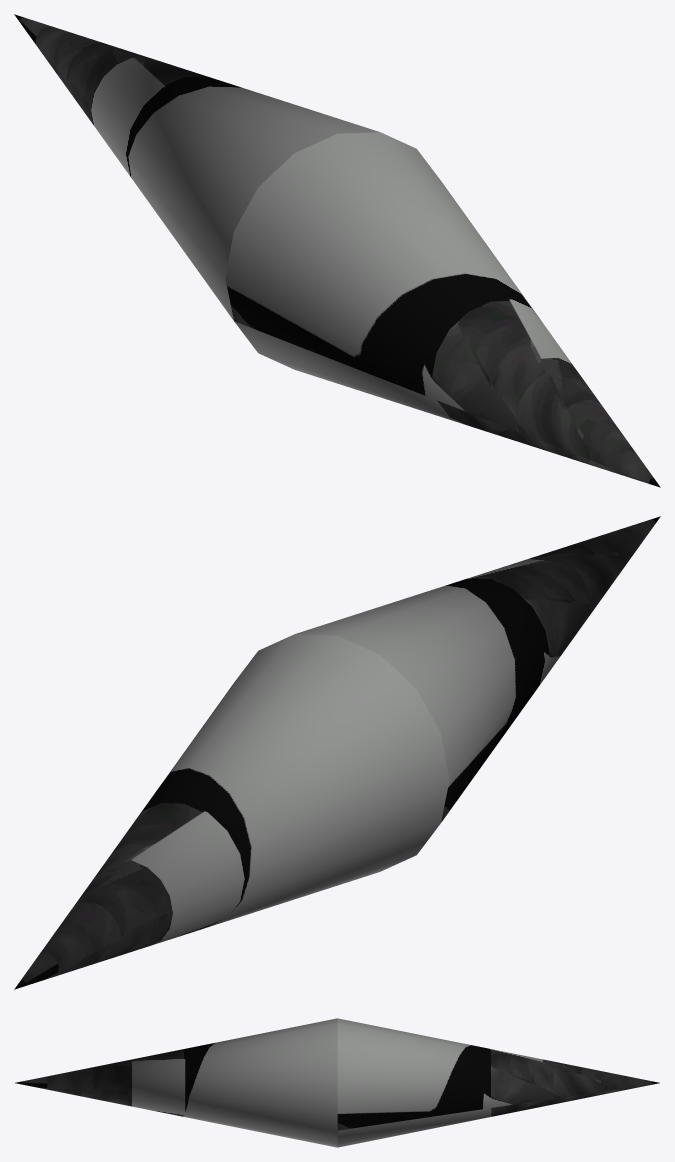
Rendered from ProjectileMesh.obj.
3 renders of one model, top to bottom at view 1: azimuth 30°, elevation 25°; view 2: azimuth 150°, elevation 25°; view 3: azimuth 270°, elevation 25°, orthographic. The views are drawn at different scales.
Parts seen in each view (by area): view 1: ProjectileMesh; view 2: ProjectileMesh; view 3: ProjectileMesh.
Boxes of the visible parts, bbox=[...] form: ProjectileMesh: bbox=[14, 14, 660, 487]; ProjectileMesh: bbox=[14, 516, 660, 989]; ProjectileMesh: bbox=[15, 1018, 659, 1147].
Bounding box in the file's own units: 0.02 × 0.02 × 0.1.
